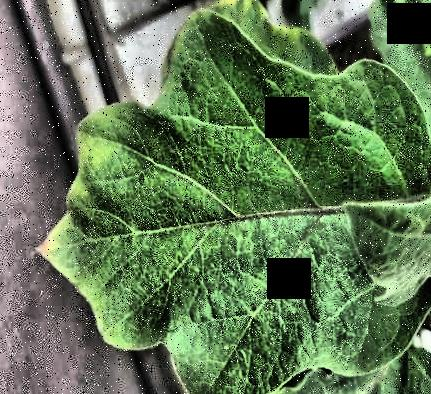Non-critical Stress: (0, 1, 431, 394)
